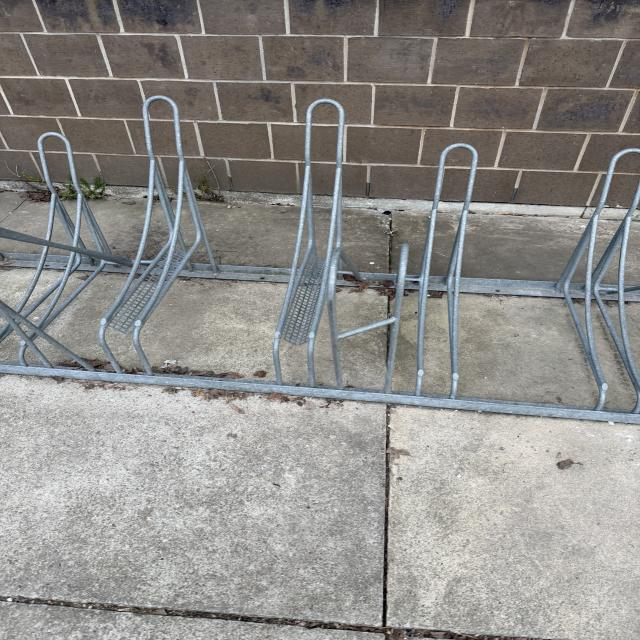Bicycle Rack: (0, 93, 640, 426)
